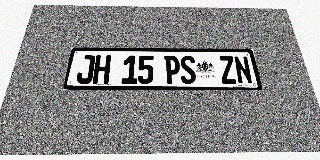1: (121, 55, 138, 84)
5: (138, 55, 154, 84)
H: (92, 55, 111, 84)
J: (75, 55, 96, 84)
N: (233, 56, 253, 84)
P: (164, 56, 181, 84)
S: (180, 56, 197, 84)
Z: (218, 56, 238, 84)
